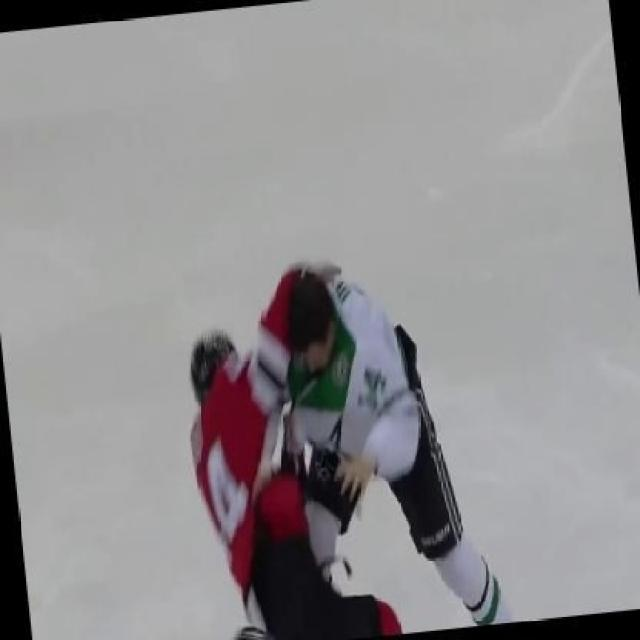fight: (145, 231, 509, 638)
